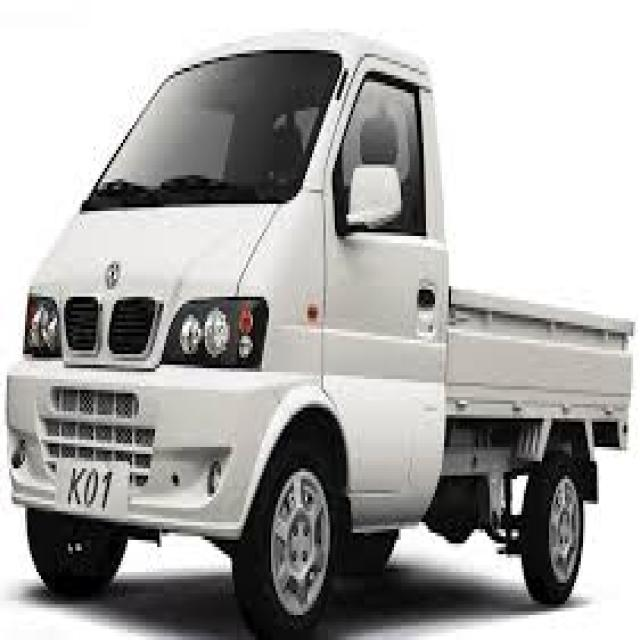TRUCK: (9, 26, 629, 624)
